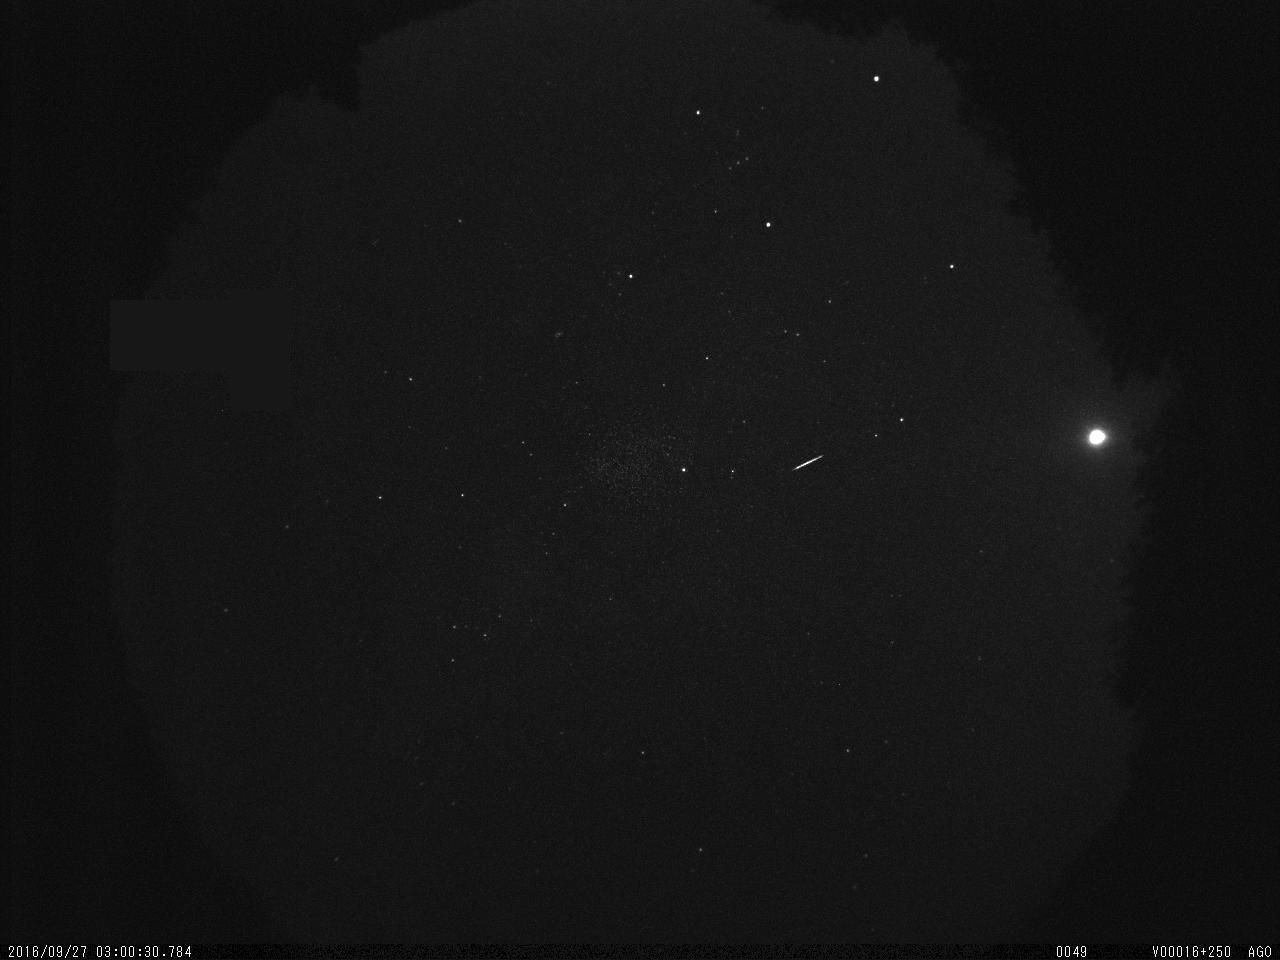meteor: (783, 439, 837, 485)
